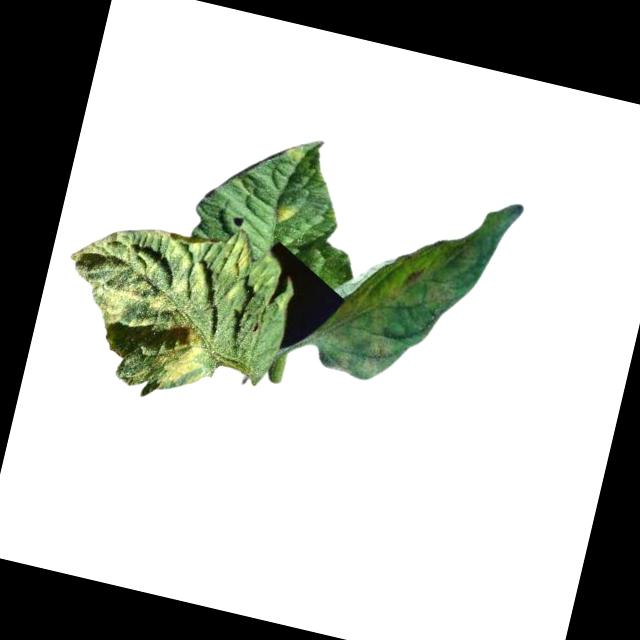Leaf_Mold: (49, 197, 258, 415), (315, 256, 406, 385), (270, 198, 299, 227)
